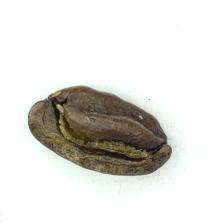NG: (43, 88, 159, 168)
